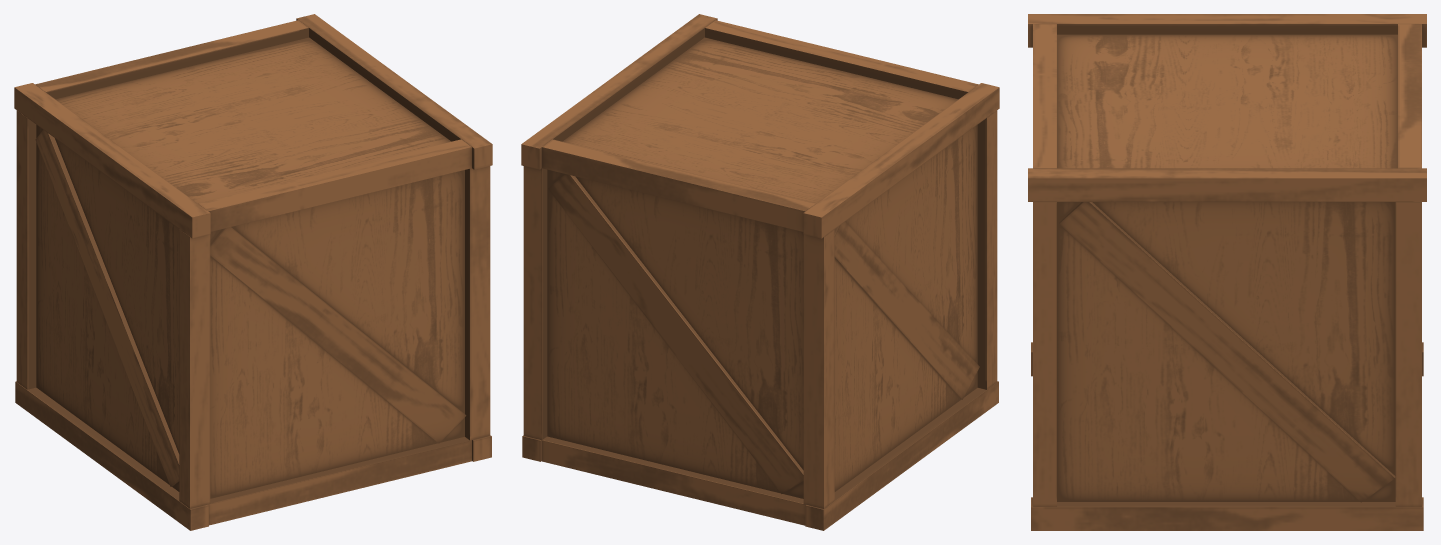
File: WoodCrate1_Env.fbx
3 views of the same model, side by side, from view 1: azimuth 30°, elevation 25°; view 2: azimuth 150°, elevation 25°; view 3: azimuth 270°, elevation 25° (orthographic). The views are drawn at different scales.
Visible parts, largest first — view 1: Plane; view 2: Plane; view 3: Plane.
Boxes of the visible parts, x1=… form: Plane: x1=14, y1=14, x2=492, y2=530; Plane: x1=521, y1=14, x2=999, y2=530; Plane: x1=1028, y1=14, x2=1426, y2=530.
Bounding box in the file's own units: 199 × 198 × 204.
